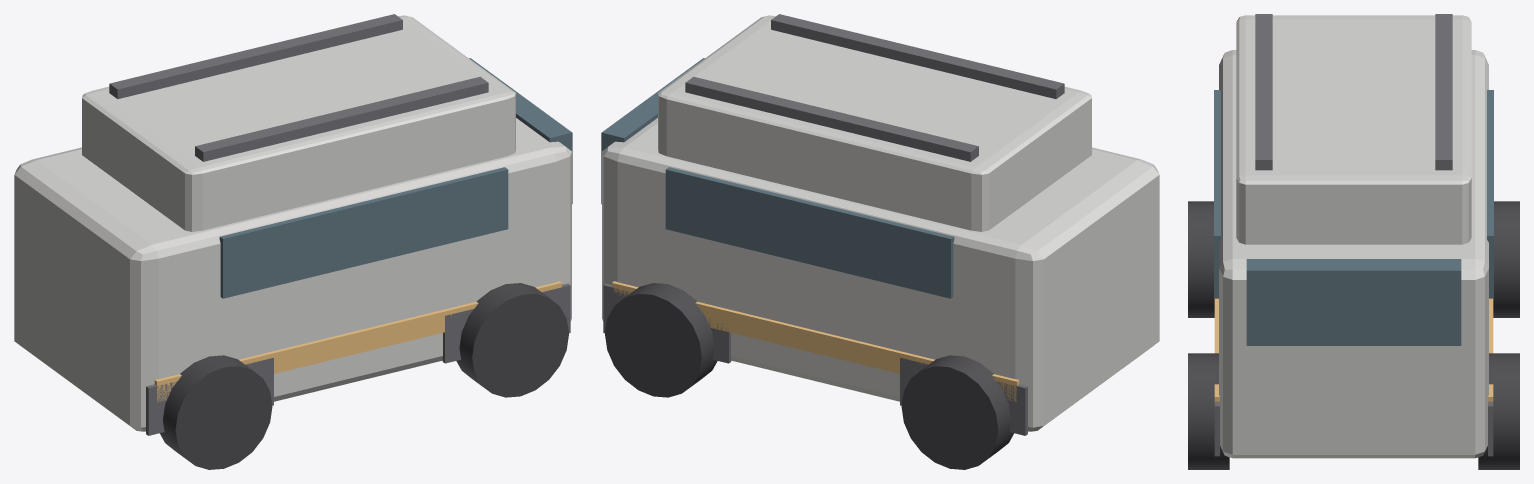
The model's file is quantum-van.glb.
3 renders of one model, left to right at view 1: azimuth 30°, elevation 25°; view 2: azimuth 150°, elevation 25°; view 3: azimuth 270°, elevation 25°, orthographic. The views are drawn at different scales.
Parts seen in each view (by area): view 1: van_body, van_roof, van_side_glass.001, van_wheel.001, van_wheel.003, van_carrier_rail, van_carrier_rail.001, van_stripe.001, van_screen, van_arch.003, van_arch.001; view 2: van_body, van_roof, van_side_glass, van_wheel, van_wheel.002, van_stripe, van_carrier_rail, van_carrier_rail.001, van_arch.002, van_screen, van_arch; view 3: van_roof, van_body, van_screen, van_wheel, van_wheel.001, van_wheel.002, van_wheel.003, van_carrier_rail, van_carrier_rail.001, van_side_glass, van_side_glass.001, van_stripe (+1 smaller).
Boxes of the visible parts, x1,y1,x2,y2 form: van_body: [14, 118, 571, 431]; van_roof: [82, 15, 515, 231]; van_side_glass.001: [219, 167, 508, 298]; van_wheel.001: [456, 283, 568, 397]; van_wheel.003: [160, 355, 272, 469]; van_carrier_rail: [109, 14, 402, 98]; van_carrier_rail.001: [195, 76, 488, 161]; van_stripe.001: [154, 281, 561, 401]; van_screen: [469, 58, 572, 204]; van_arch.003: [146, 357, 273, 435]; van_arch.001: [442, 283, 570, 363]; van_body: [602, 118, 1159, 431]; van_roof: [658, 15, 1091, 231]; van_side_glass: [665, 167, 954, 298]; van_wheel: [605, 283, 717, 397]; van_wheel.002: [901, 355, 1013, 469]; van_stripe: [612, 281, 1019, 402]; van_carrier_rail: [685, 76, 978, 161]; van_carrier_rail.001: [771, 14, 1064, 98]; van_arch.002: [900, 357, 1027, 435]; van_screen: [601, 58, 704, 204]; van_arch: [603, 283, 731, 363]; van_roof: [1236, 15, 1471, 244]; van_body: [1219, 50, 1488, 458]; van_screen: [1246, 259, 1461, 345]; van_wheel: [1478, 353, 1519, 469]; van_wheel.001: [1188, 353, 1229, 469]; van_wheel.002: [1493, 201, 1519, 317]; van_wheel.003: [1188, 201, 1214, 317]; van_carrier_rail: [1435, 14, 1452, 170]; van_carrier_rail.001: [1255, 14, 1272, 170]; van_side_glass: [1487, 90, 1493, 298]; van_side_glass.001: [1214, 90, 1220, 298]; van_stripe: [1488, 298, 1493, 401].
Bounding box in the file's own units: 1.57 × 0.9725 × 0.96.
